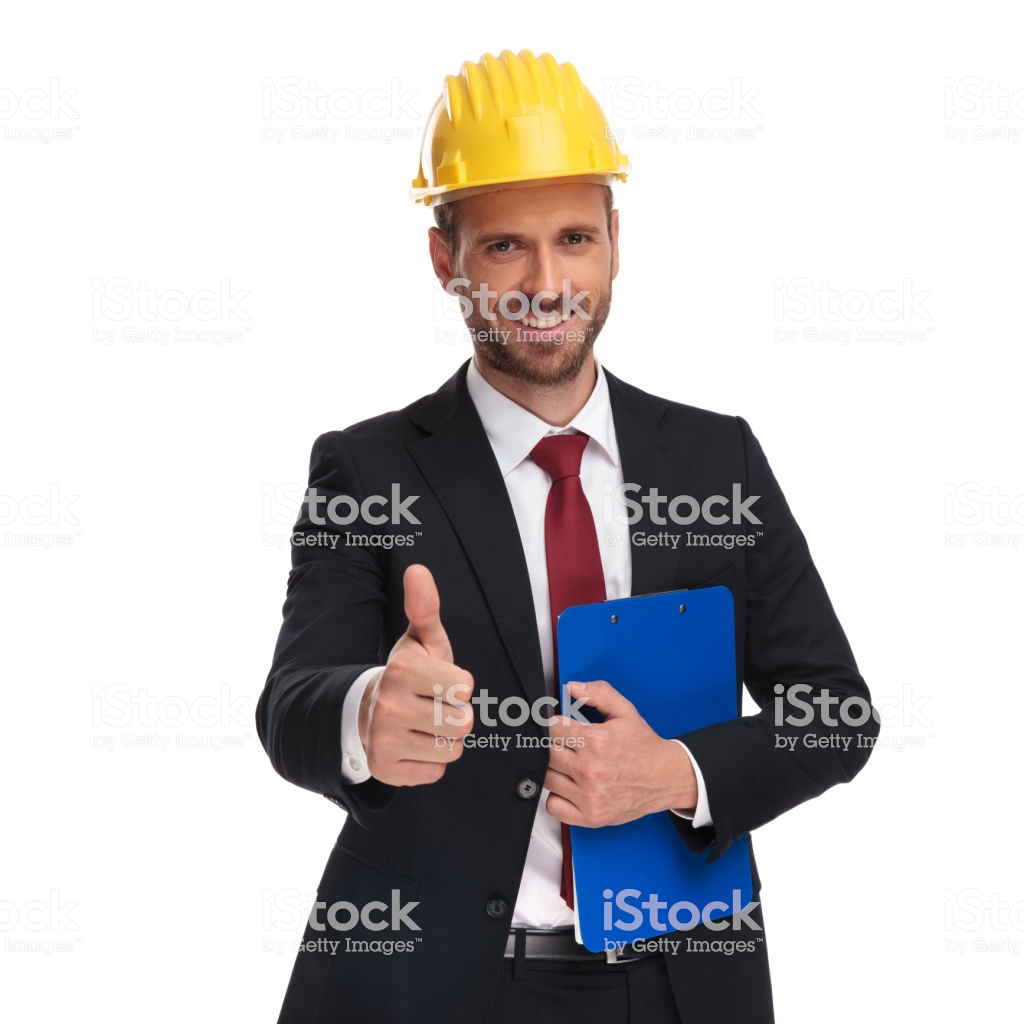thumbsup: (362, 561, 474, 790)
